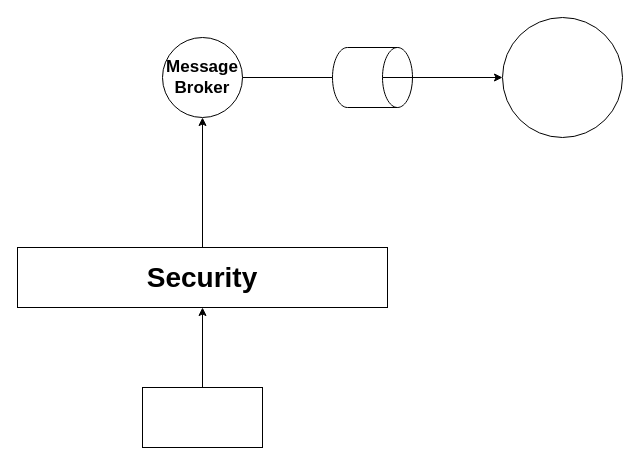
The diagram is 640 pixels wide and 465 high, and some of its shapes have lost their labels. The shapes that lost their labels are listed below. From the top down, each one's centre as x and y in pixels, then its label:
the point at 562,77: Persistence
the point at 202,417: Inteface
